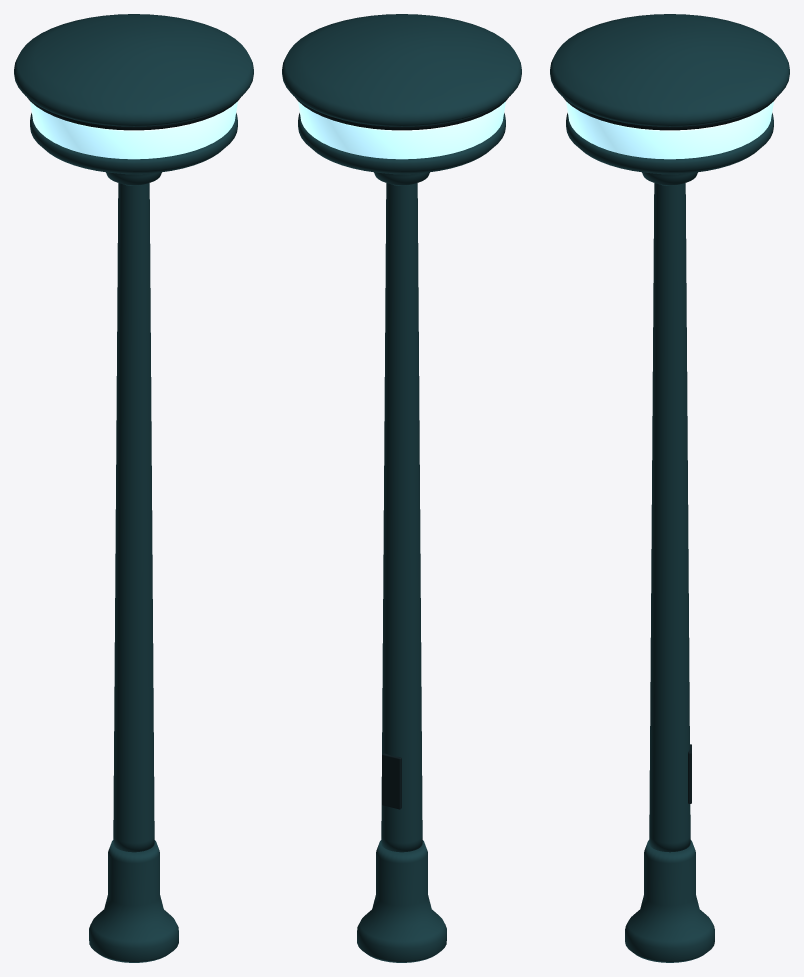
The model's file is city_lights_02_cool.glb.
3 renders of one model, left to right at view 1: azimuth 30°, elevation 25°; view 2: azimuth 150°, elevation 25°; view 3: azimuth 270°, elevation 25°, orthographic.
Parts seen in each view (by area): view 1: quiet_tapered_pole, broad_rounded_canopy, foot_splayed_casting, broad_recessed_diffuser, lower_shield, crown_seal, lantern_neck; view 2: quiet_tapered_pole, broad_rounded_canopy, foot_splayed_casting, broad_recessed_diffuser, lower_shield, front_service_panel, crown_seal, lantern_neck; view 3: quiet_tapered_pole, broad_rounded_canopy, foot_splayed_casting, broad_recessed_diffuser, lower_shield, crown_seal, lantern_neck.
Part boxes in pixels (x1,y1,x2,y2): quiet_tapered_pole: (113, 183, 154, 852); broad_rounded_canopy: (14, 14, 253, 126); foot_splayed_casting: (89, 840, 178, 962); broad_recessed_diffuser: (30, 101, 237, 159); lower_shield: (30, 113, 237, 174); crown_seal: (27, 97, 240, 130); lantern_neck: (106, 172, 161, 185); quiet_tapered_pole: (381, 183, 422, 852); broad_rounded_canopy: (282, 14, 521, 126); foot_splayed_casting: (357, 840, 446, 962); broad_recessed_diffuser: (298, 101, 505, 159); lower_shield: (298, 113, 505, 174); front_service_panel: (382, 753, 401, 809); crown_seal: (295, 97, 508, 130); lantern_neck: (374, 172, 429, 185); quiet_tapered_pole: (649, 183, 690, 852); broad_rounded_canopy: (550, 14, 789, 126); foot_splayed_casting: (625, 840, 714, 962); broad_recessed_diffuser: (566, 101, 773, 159); lower_shield: (566, 113, 773, 174); crown_seal: (563, 97, 776, 130); lantern_neck: (642, 172, 697, 185).
Size of the model in its own units: 0.72 by 3 by 0.72.
